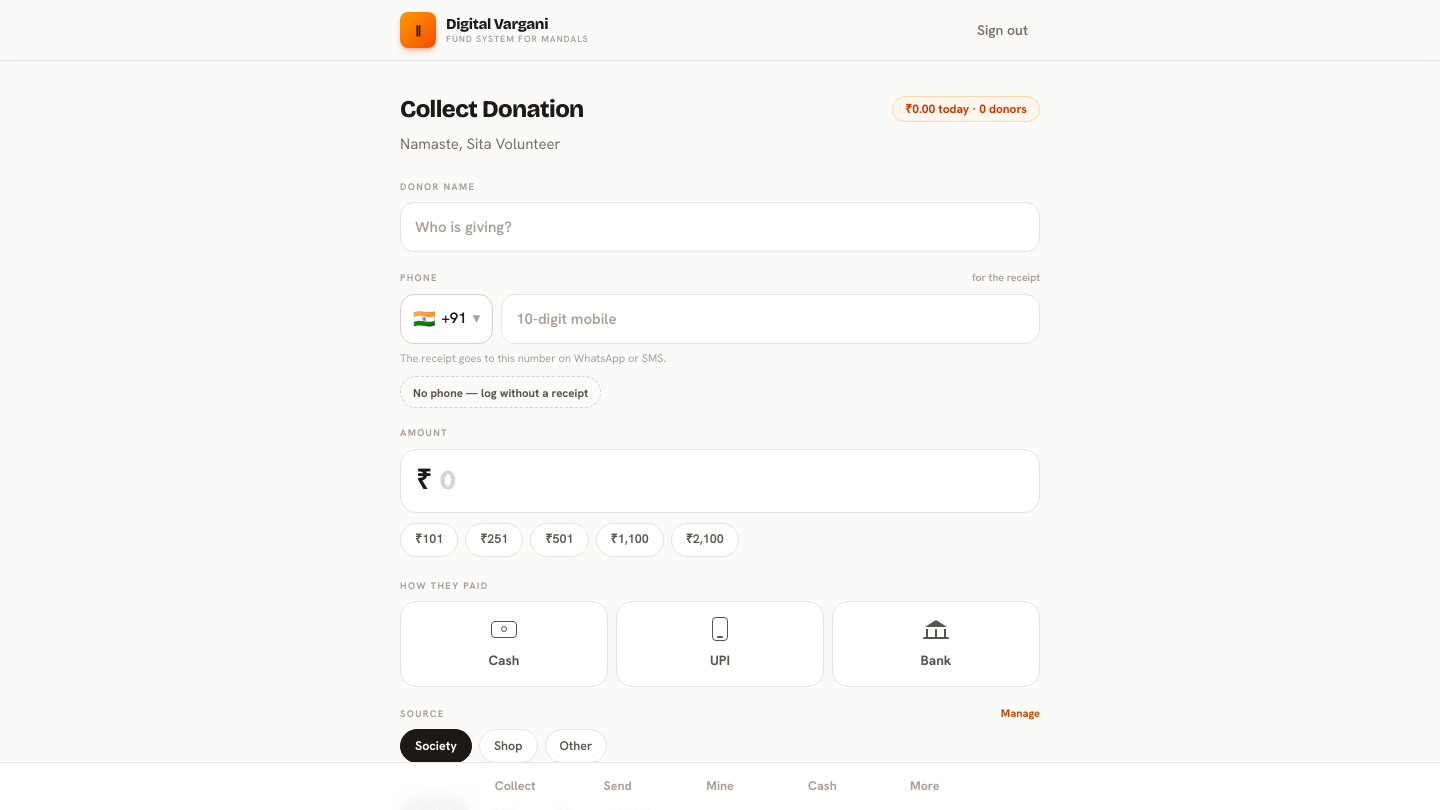
Scenario: CollectionForm › shows the returned receipt number and resets the form after a successful submit
Type "Ramesh Kulkarni" into the field labelled "Donor name". click: (720, 227)
box: [400,202,1040,252]
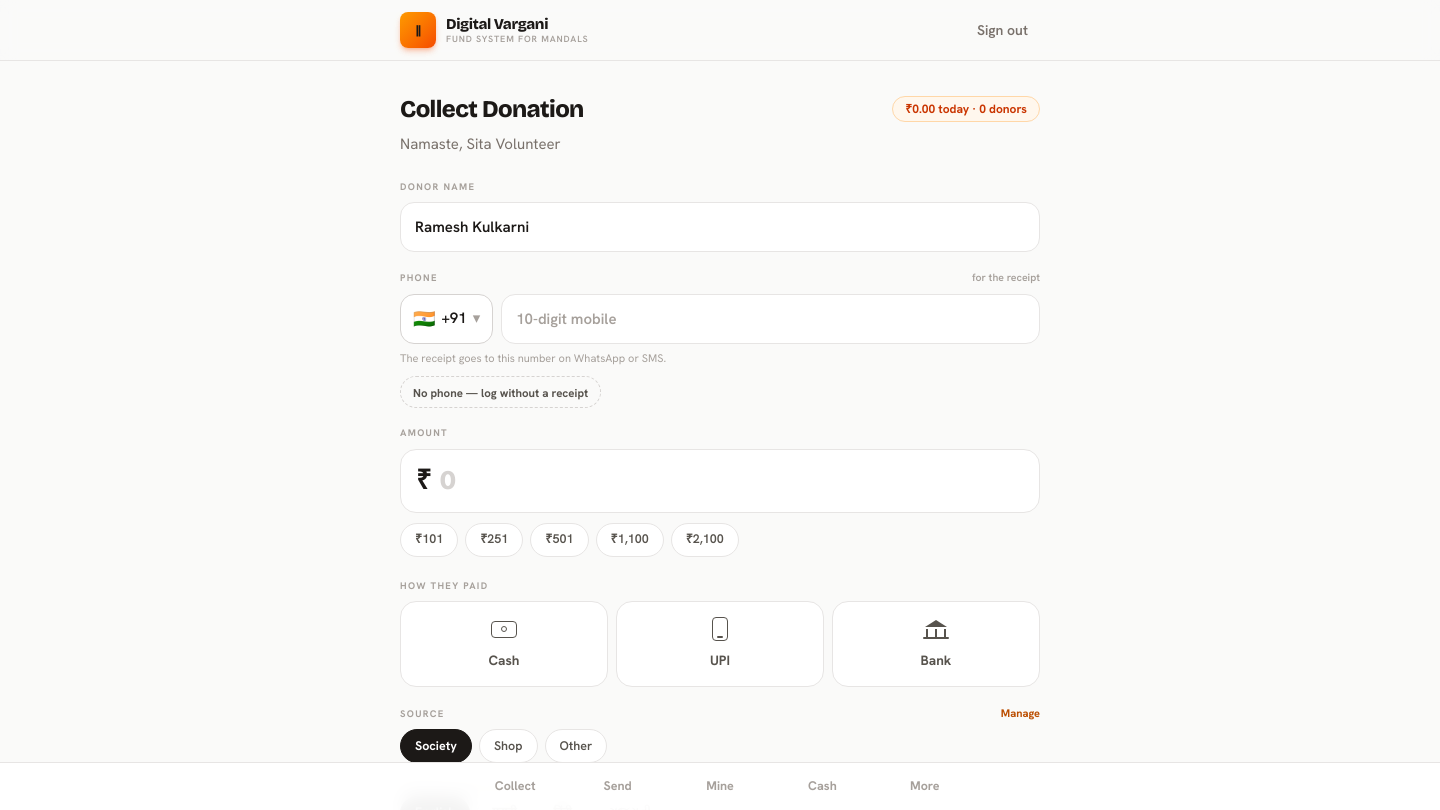
Type "9876543210" into the field named "Phone". click: (771, 318)
box: [501,294,1040,344]
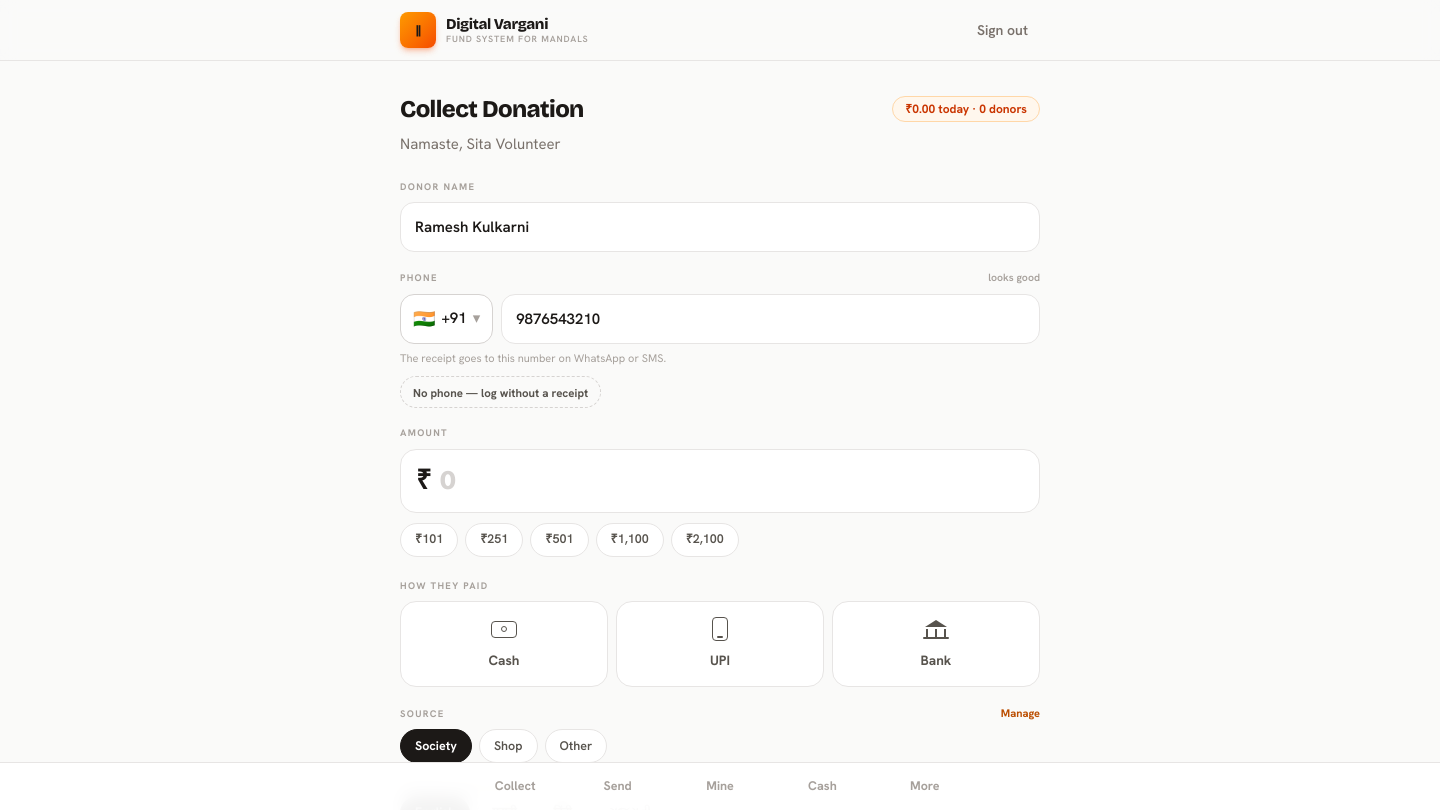
Type "501" into the number field labelled "Amount". click: (732, 481)
box: [440,460,1024,501]
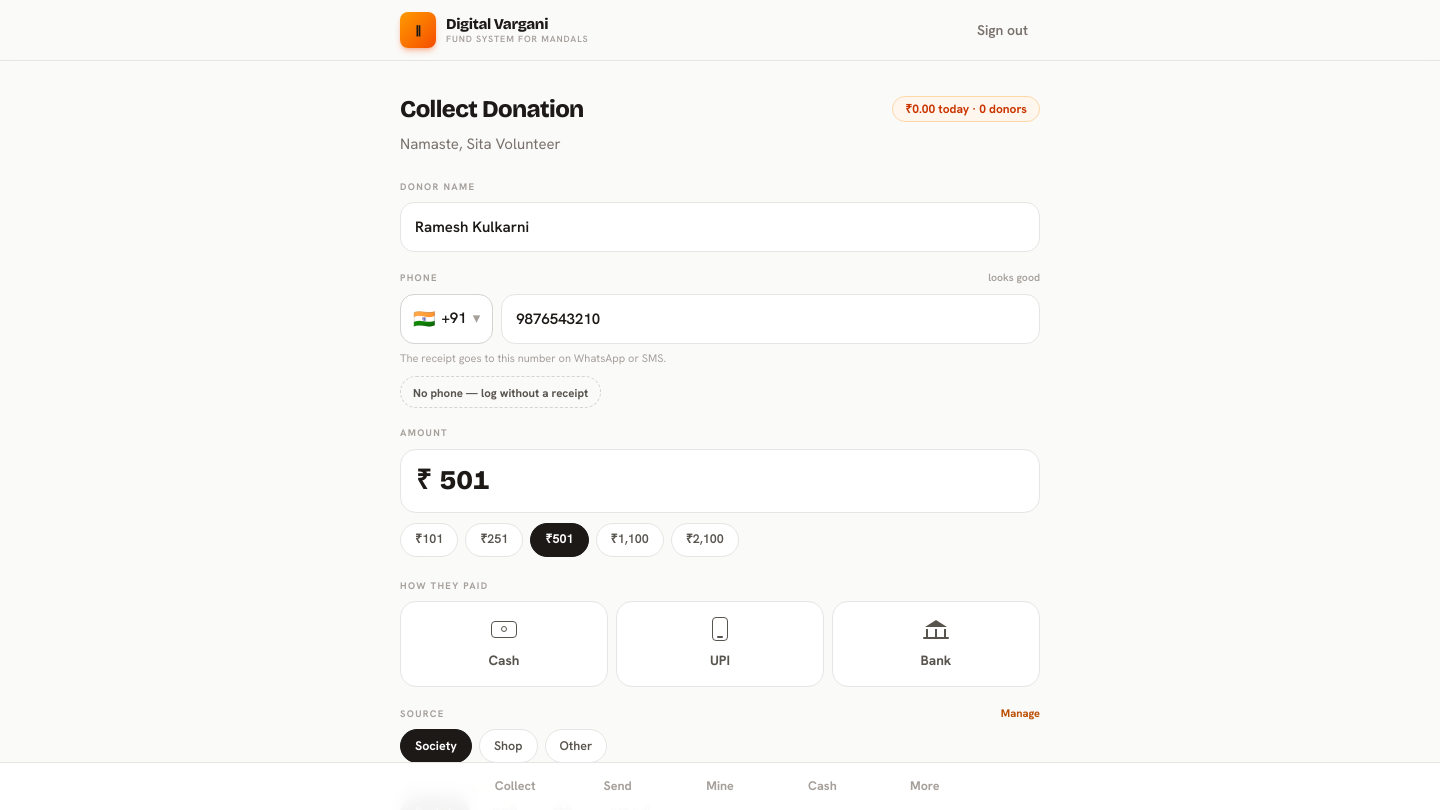
Click the button "Cash". click: (504, 644)
box: [400,601,608,687]
(page scrolled)
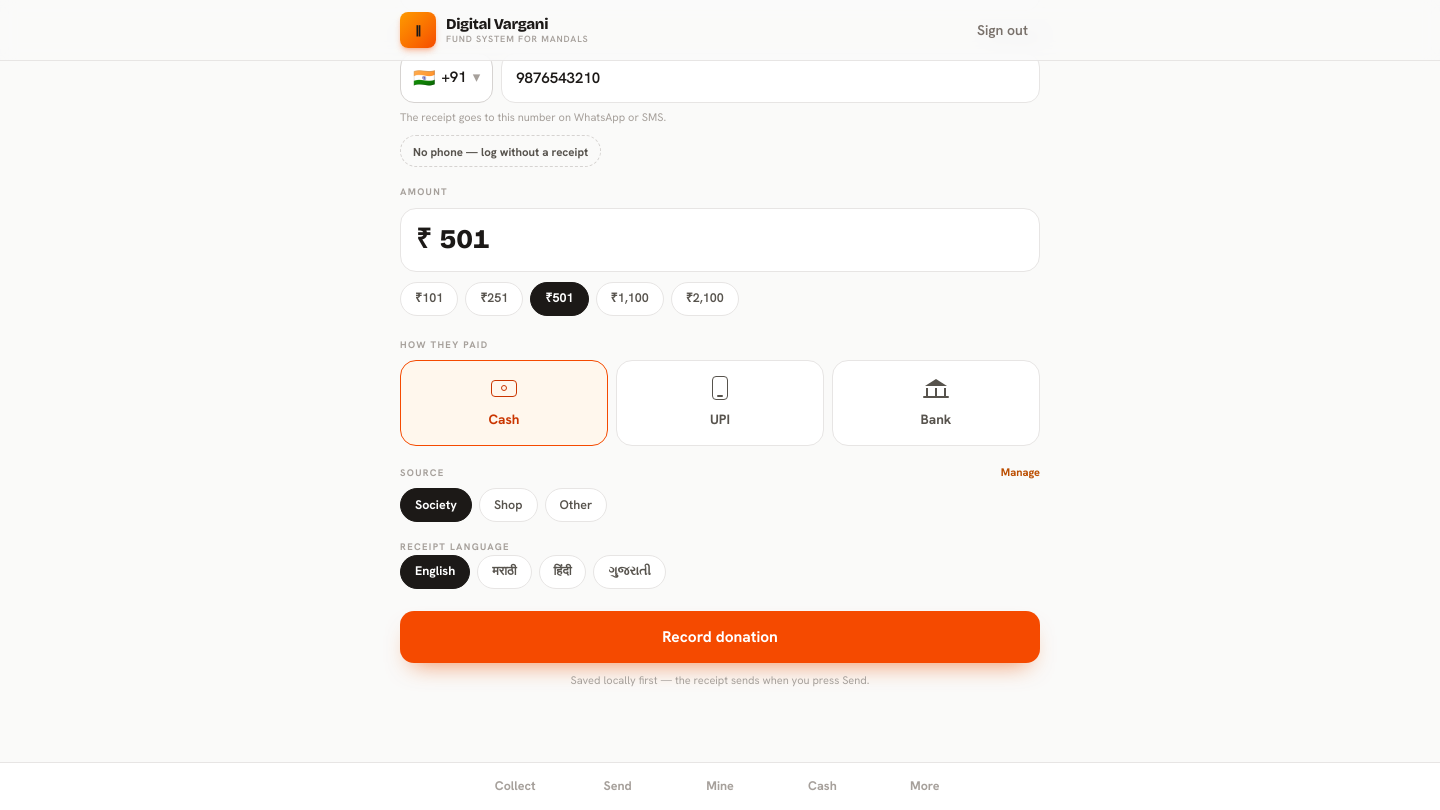
Click the button "Record donation". click: (720, 637)
box: [400,611,1040,663]
(page scrolled)
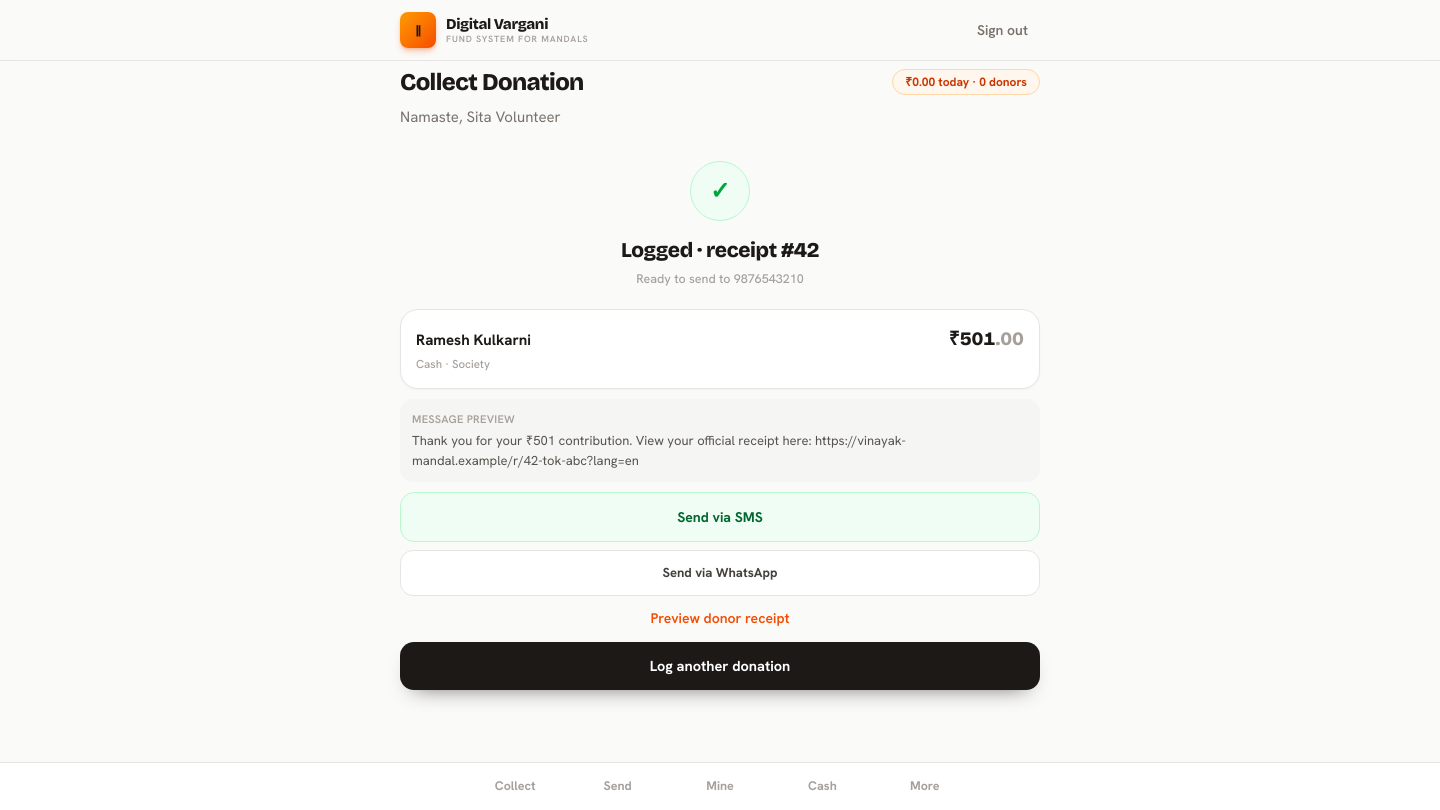
Now the heading "Logged · receipt #42" is shown, box [621,236,819,262]
Click the button "Log another donation". click: (720, 666)
box: [400,642,1040,690]
(page scrolled)
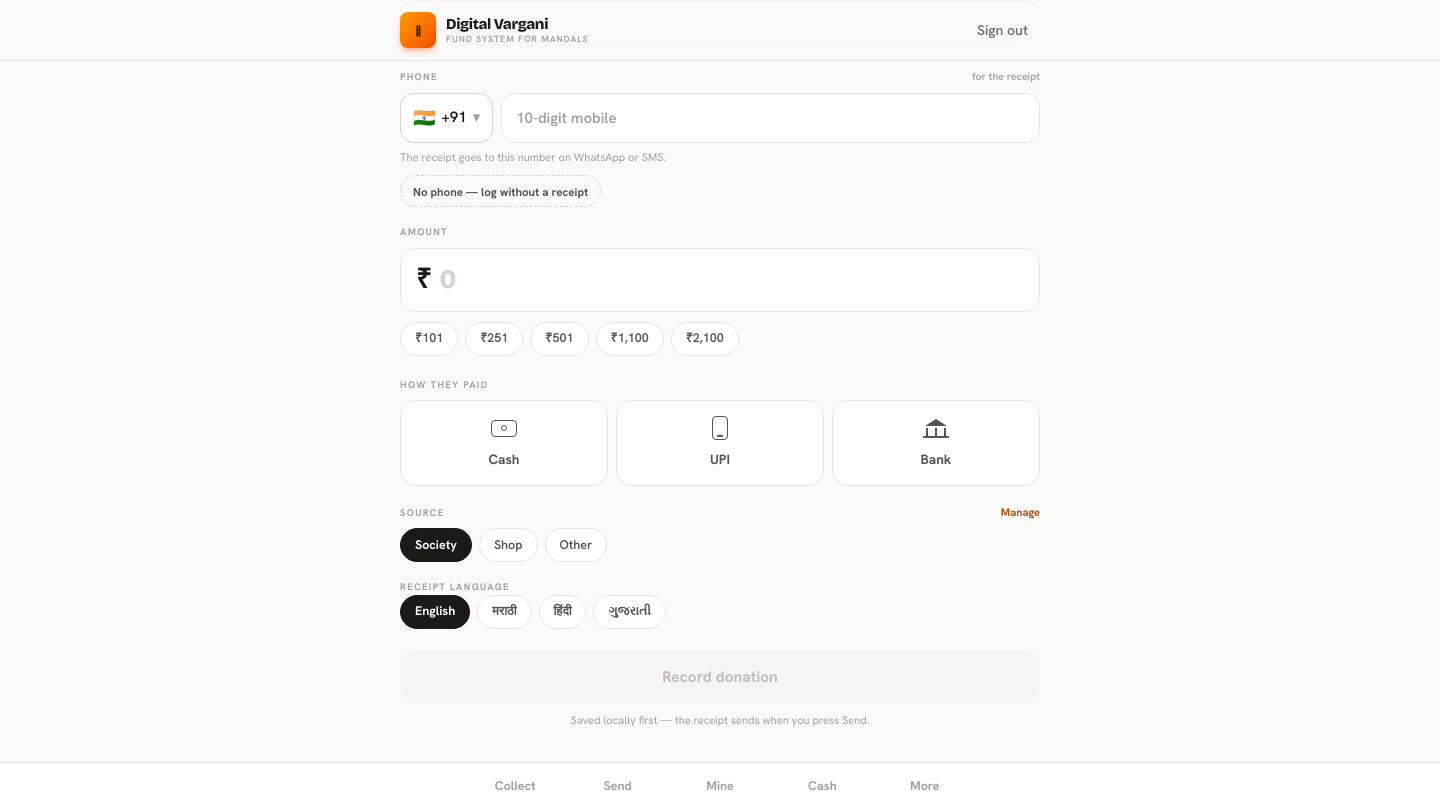
Expected: the field labelled "Donor name" is empty, [400,1,1040,51]
Now the field named "Phone" is empty, box [501,92,1040,142]
Now the number field labelled "Amount" is not empty, box [440,259,1024,300]
